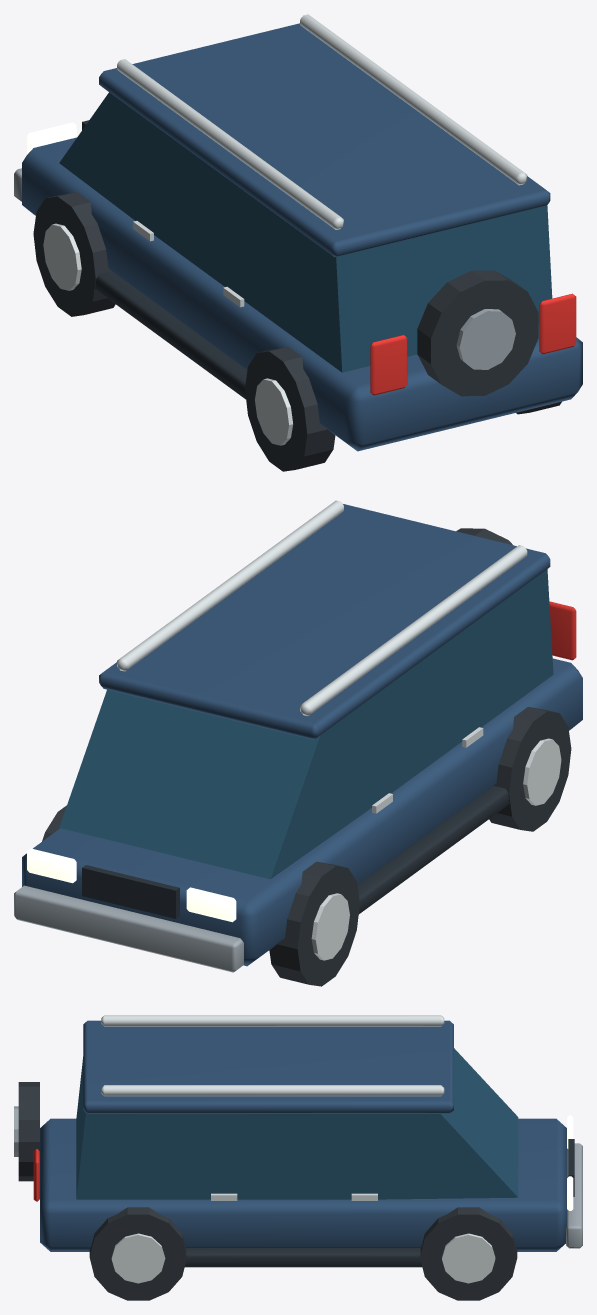
File: car_suv.glb
The picture shows the model from 3 angles, top to bottom: view 1: azimuth 30°, elevation 25°; view 2: azimuth 150°, elevation 25°; view 3: azimuth 270°, elevation 25°; orthographic projection. The views are drawn at different scales.
Parts seen in each view (by area): view 1: suv_roof, suv_tall_cabin, suv_chassis, suv_rear_spare, car_suv_tire, car_suv_tire.001, suv_step, suv_roof_rail.001, suv_roof_rail, suv_rear_spare_hub, suv_taillamp, suv_taillamp.001 (+3 smaller); view 2: suv_tall_cabin, suv_roof, suv_chassis, suv_front_bumper, car_suv_tire.001, car_suv_tire, suv_step, suv_roof_rail, suv_roof_rail.001, suv_front_grille, car_suv_hub, car_suv_hub.001 (+3 smaller); view 3: suv_tall_cabin, suv_roof, suv_chassis, car_suv_tire.003, car_suv_tire.002, suv_step.001, suv_roof_rail, suv_roof_rail.001, car_suv_hub.002, car_suv_hub.003, suv_rear_spare, suv_front_bumper.
Boxes of the visible parts, left/top/right/bottom form: suv_roof: left=99, top=23, right=550, bottom=256; suv_tall_cabin: left=59, top=92, right=552, bottom=372; suv_chassis: left=22, top=137, right=582, bottom=451; suv_rear_spare: left=417, top=270, right=538, bottom=396; car_suv_tire: left=245, top=346, right=335, bottom=471; car_suv_tire.001: left=33, top=192, right=115, bottom=316; suv_step: left=95, top=271, right=247, bottom=399; suv_roof_rail.001: left=300, top=14, right=527, bottom=185; suv_roof_rail: left=117, top=59, right=343, bottom=229; suv_rear_spare_hub: left=456, top=309, right=515, bottom=369; suv_taillamp: left=370, top=335, right=407, bottom=395; suv_taillamp.001: left=539, top=293, right=576, bottom=354; suv_tall_cabin: left=59, top=569, right=553, bottom=879; suv_roof: left=99, top=504, right=550, bottom=739; suv_chassis: left=22, top=658, right=582, bottom=966; suv_front_bumper: left=14, top=885, right=243, bottom=972; car_suv_tire.001: left=269, top=861, right=359, bottom=986; car_suv_tire: left=489, top=707, right=571, bottom=831; suv_step: left=357, top=786, right=509, bottom=914; suv_roof_rail: left=300, top=545, right=527, bottom=715; suv_roof_rail.001: left=117, top=500, right=343, bottom=671; suv_front_grille: left=82, top=865, right=179, bottom=918; car_suv_hub: left=523, top=738, right=561, bottom=805; car_suv_hub.001: left=311, top=893, right=349, bottom=960; suv_tall_cabin: left=76, top=1048, right=518, bottom=1199; suv_roof: left=83, top=1020, right=453, bottom=1113; suv_chassis: left=40, top=1118, right=566, bottom=1251; car_suv_tire.003: left=420, top=1207, right=517, bottom=1300; car_suv_tire.002: left=89, top=1207, right=186, bottom=1300; suv_step.001: left=185, top=1248, right=422, bottom=1267; suv_roof_rail: left=101, top=1015, right=444, bottom=1026; suv_roof_rail.001: left=101, top=1085, right=444, bottom=1096; car_suv_hub.002: left=111, top=1233, right=165, bottom=1283; car_suv_hub.003: left=442, top=1233, right=495, bottom=1283; suv_rear_spare: left=18, top=1082, right=39, bottom=1181; suv_front_bumper: left=566, top=1143, right=582, bottom=1248.
Bounding box in the file's own units: 2.32 × 2.08 × 5.37.
